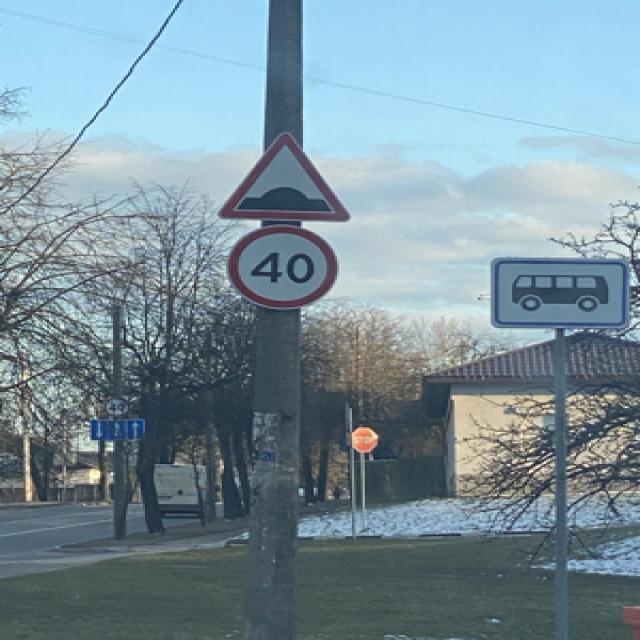speedlimit: (222, 224, 339, 309), (105, 395, 128, 416)
stop: (348, 426, 378, 452)
